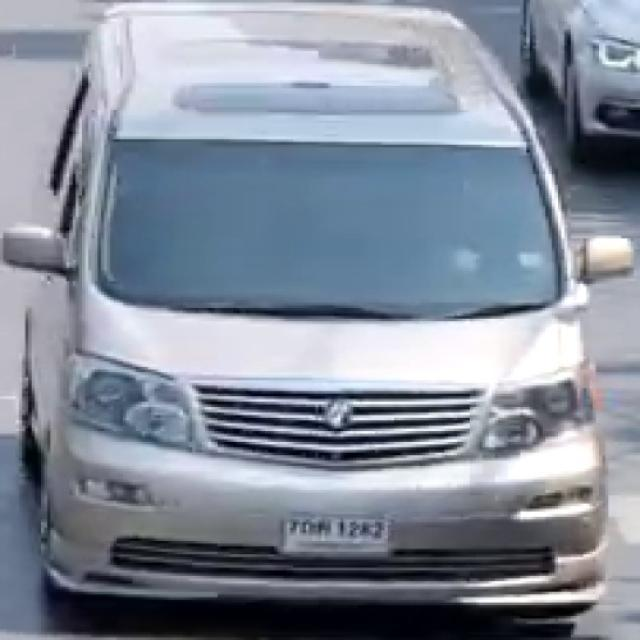plate: (280, 514, 392, 557)
